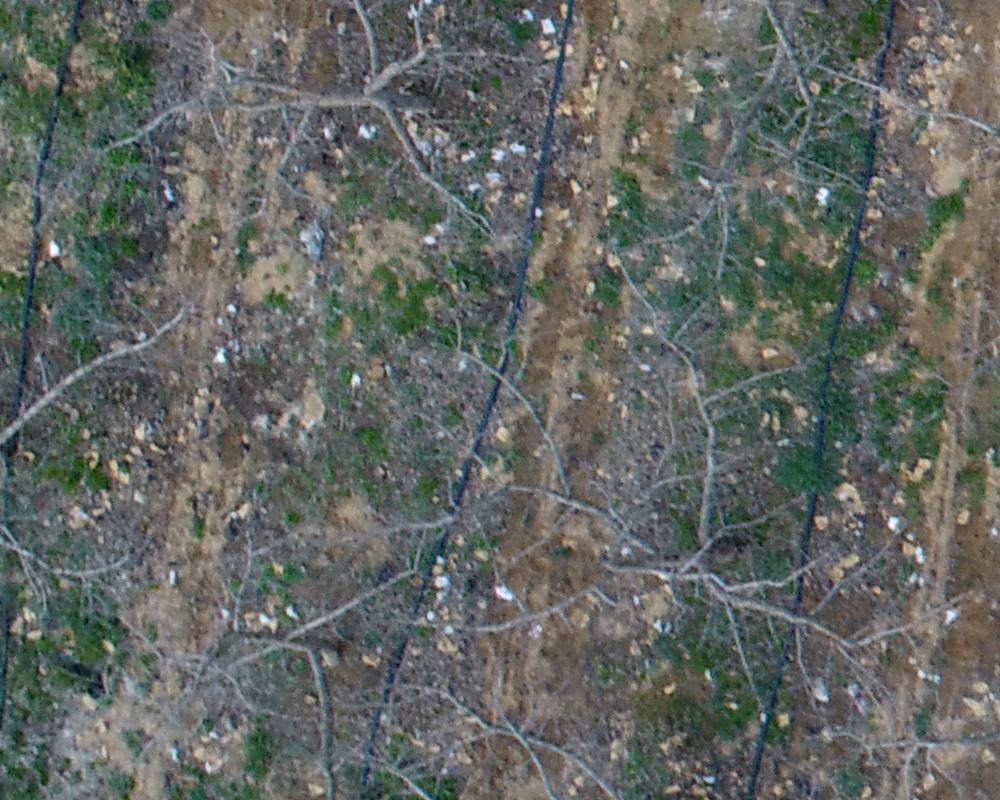apple: (390, 246, 958, 750), (502, 10, 975, 289), (92, 10, 516, 246), (118, 497, 429, 790)
